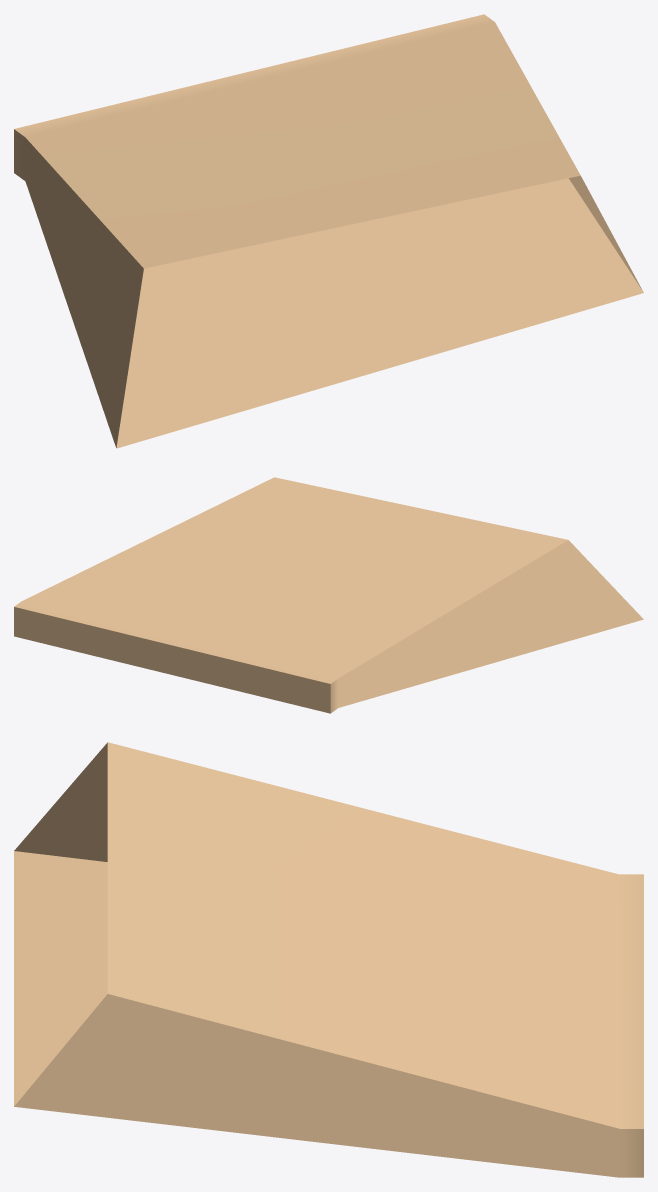
Rendered from AI_FX_LightRay_06.fbx.
3 renders of one model, top to bottom at view 1: azimuth 30°, elevation 25°; view 2: azimuth 150°, elevation 25°; view 3: azimuth 270°, elevation 25°, orthographic. The views are drawn at different scales.
Visible parts, largest first — view 1: AI_FX_LightRay_06; view 2: AI_FX_LightRay_06; view 3: AI_FX_LightRay_06.
Part boxes in pixels (left/top/right/bottom): AI_FX_LightRay_06: left=14, top=14, right=643, bottom=448; AI_FX_LightRay_06: left=14, top=477, right=643, bottom=713; AI_FX_LightRay_06: left=14, top=742, right=643, bottom=1177.
Bounding box in the file's own units: 6.09 × 1.18 × 4.6.
